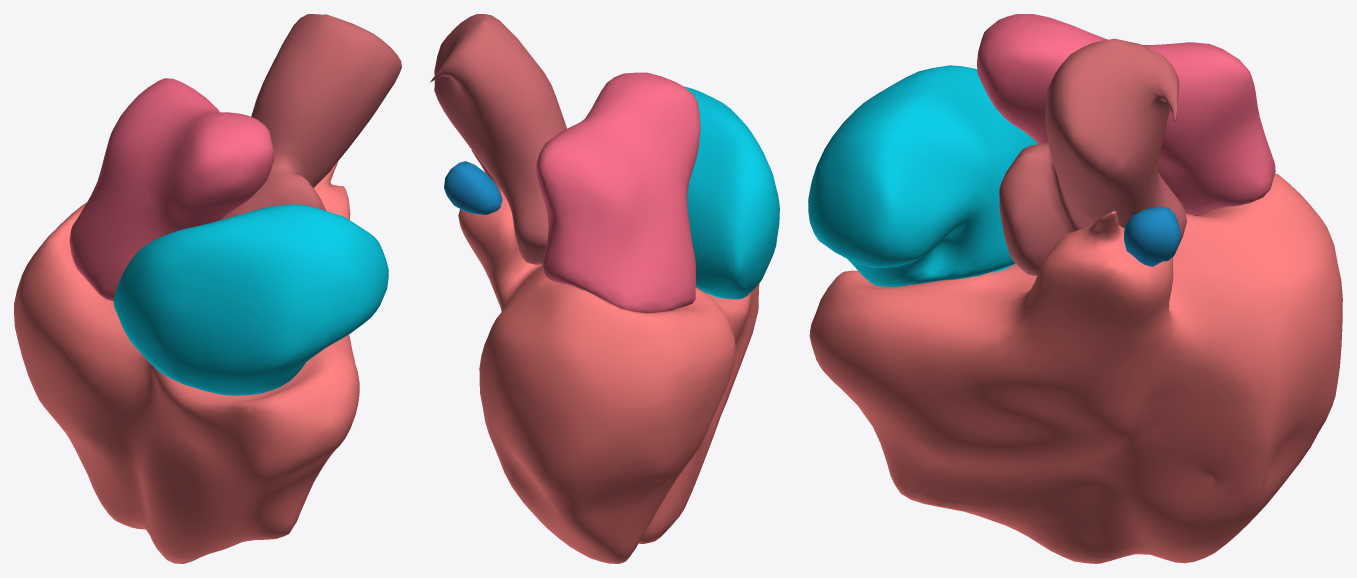
The model's file is frame_13.glb.
The picture shows the model from 3 angles, left to right: view 1: azimuth 30°, elevation 25°; view 2: azimuth 150°, elevation 25°; view 3: azimuth 270°, elevation 25°; orthographic projection. The views are drawn at different scales.
Visible parts, largest first — view 1: Renderer Node; view 2: Renderer Node; view 3: Renderer Node.
Boxes of the visible parts, x1=… form: Renderer Node: x1=14, y1=14, x2=401, y2=563; Renderer Node: x1=430, y1=14, x2=779, y2=563; Renderer Node: x1=808, y1=14, x2=1342, y2=563.
Size of the model in its own units: 106 by 158 by 123.
